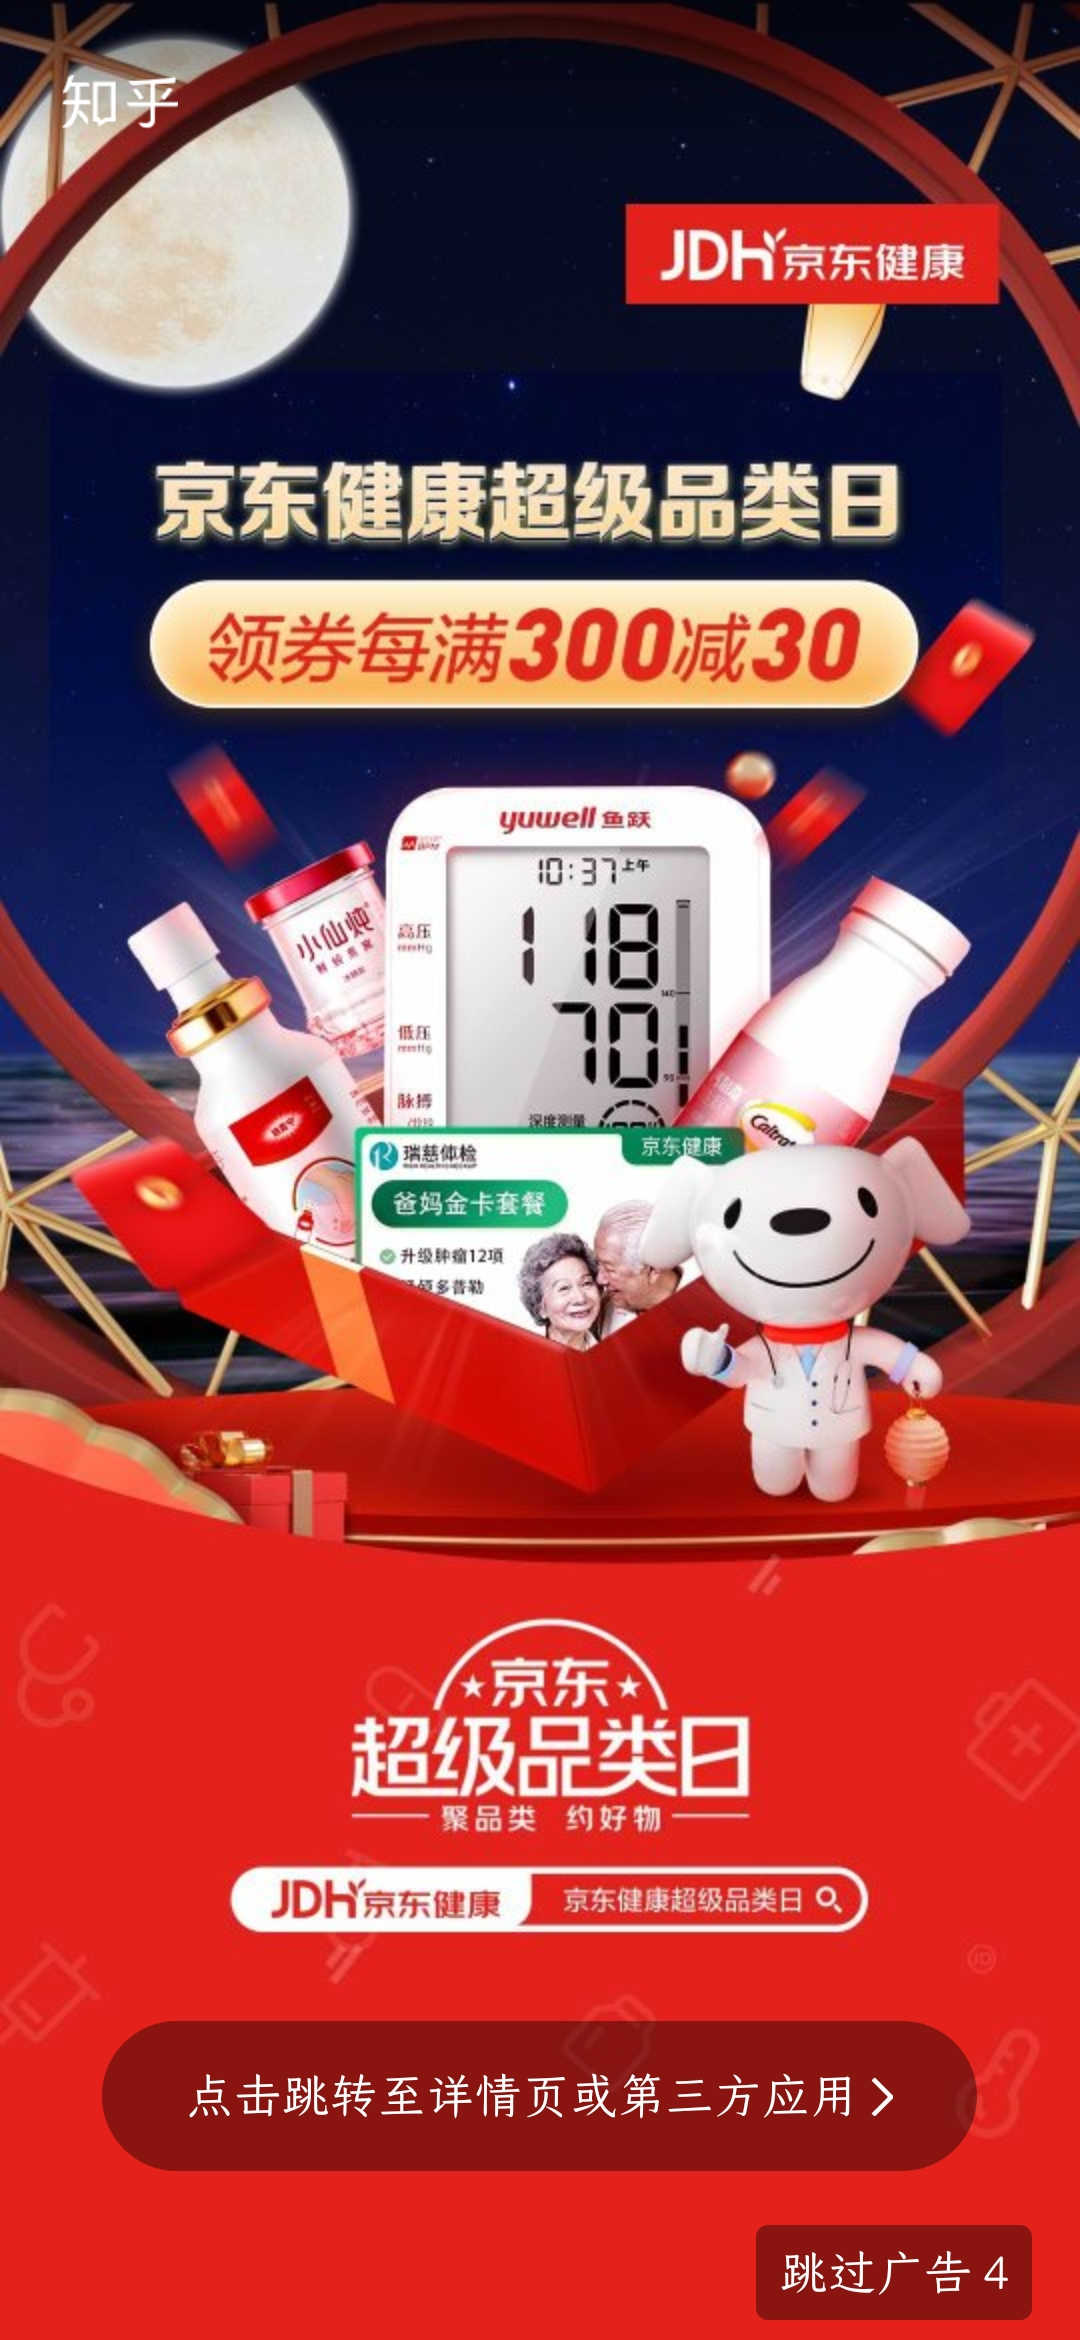skip: (759, 2228, 1038, 2325)
